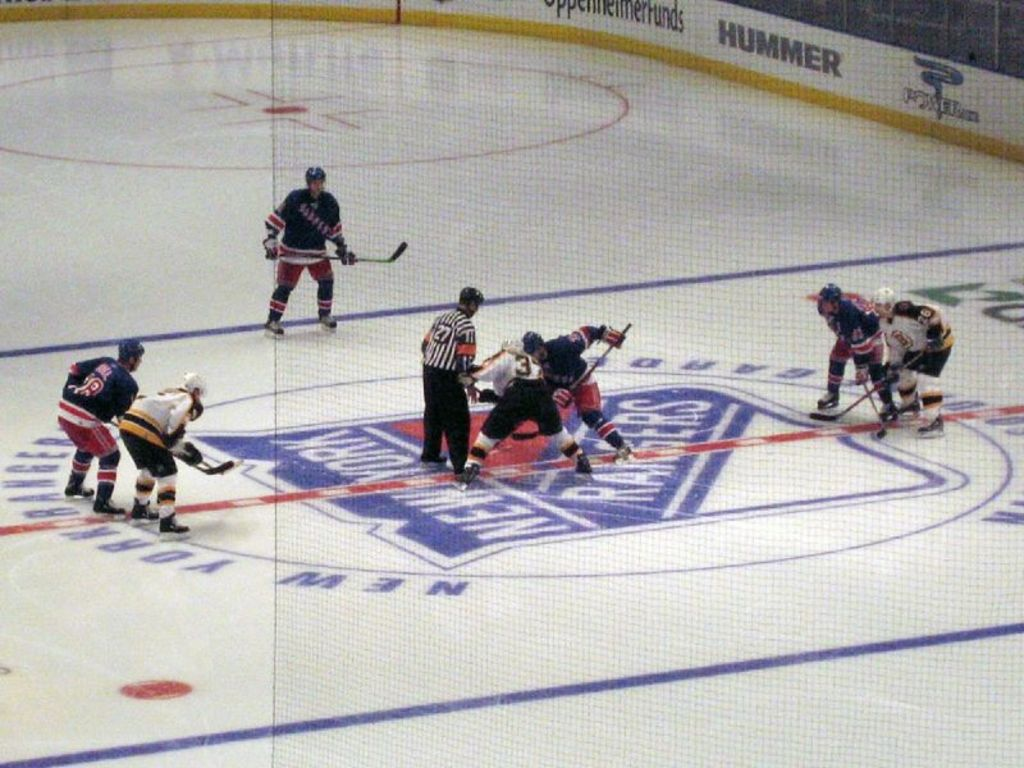Person: (458, 337, 598, 482), (464, 342, 589, 468), (264, 167, 354, 339), (60, 338, 144, 509), (117, 373, 206, 534), (526, 332, 623, 464), (803, 282, 898, 416), (869, 291, 956, 429), (421, 290, 479, 479), (818, 280, 882, 406)
